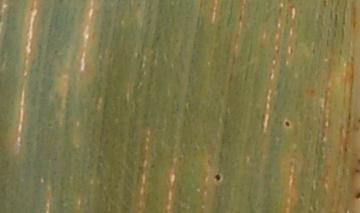tarspot: (214, 172, 221, 182), (283, 118, 290, 127), (353, 167, 360, 173), (356, 191, 360, 199)
